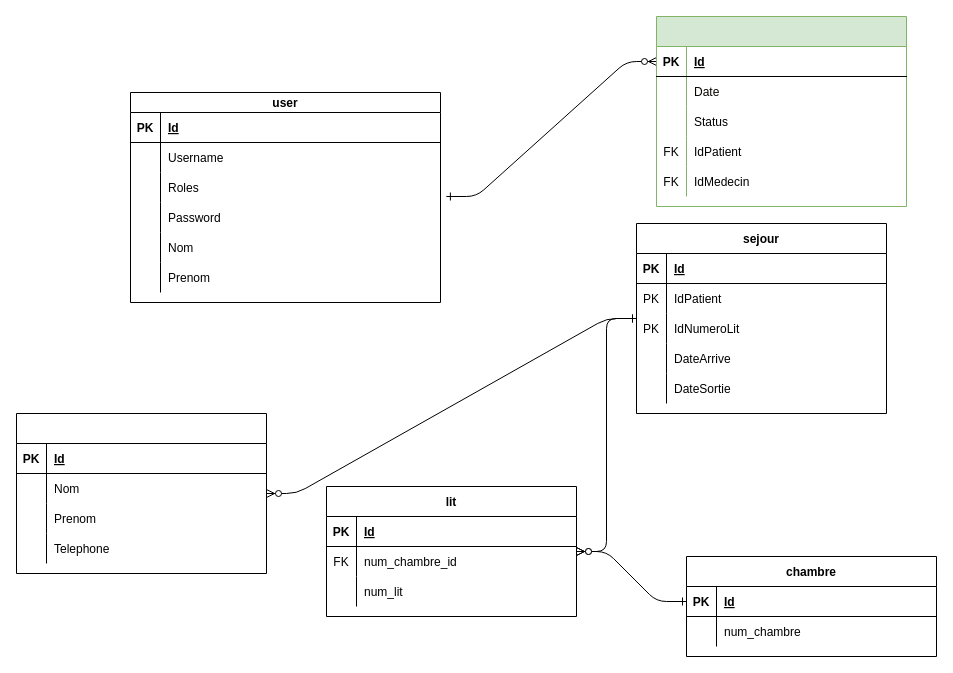
The diagram is 953 pixels wide and 673 high, and some of its shapes have lost their labels. The shapes that lost their labels are listed below. From the top down, each one's box as (x1, y1, x2, y2) in pixels, then its label:
(656, 16, 906, 206): rdv
(16, 412, 266, 574): patient
